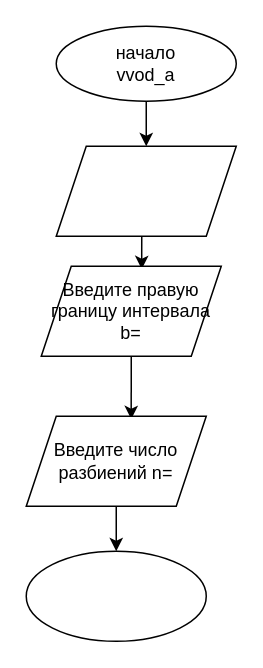
Some shapes in this 263 by 668 pixel diagram are drawn without their labels. The shapes that lost their labels are listed below. From the top down, each one's box as (x1, y1, x2, y2) in pixels, then its label:
(55, 145, 236, 236): Введите левую границу интервала a=
(25, 550, 206, 641): конец vvod_b
